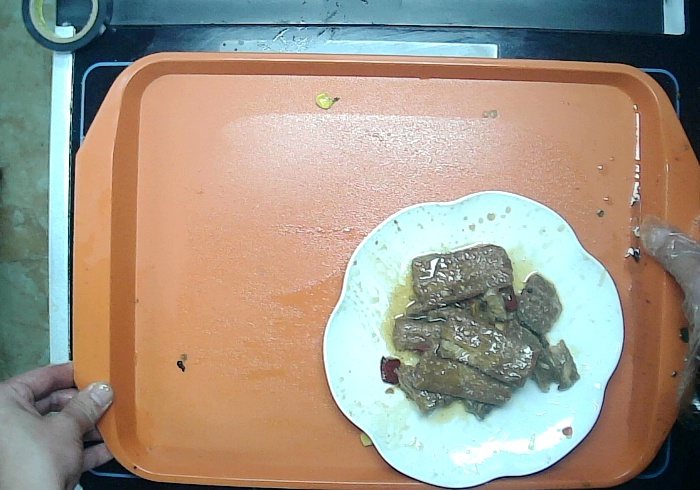HZYJPL-Bai_Se_Hua_Duo_Wan: (321, 188, 626, 490)
